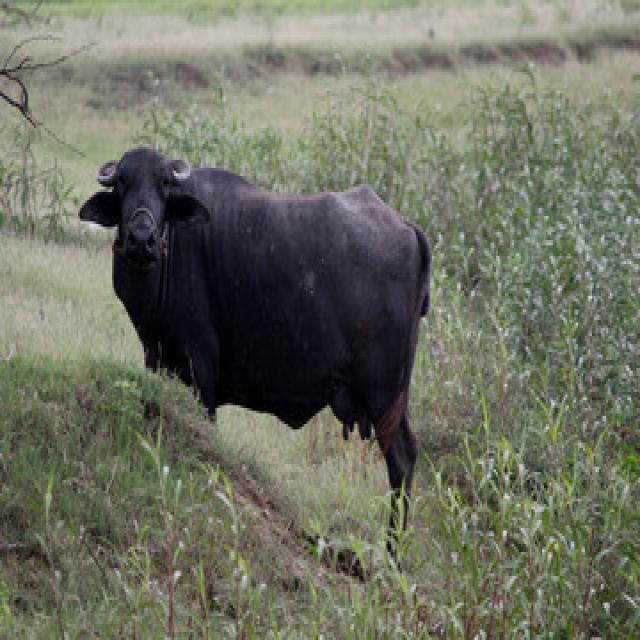Buffalo: (75, 139, 434, 568)
